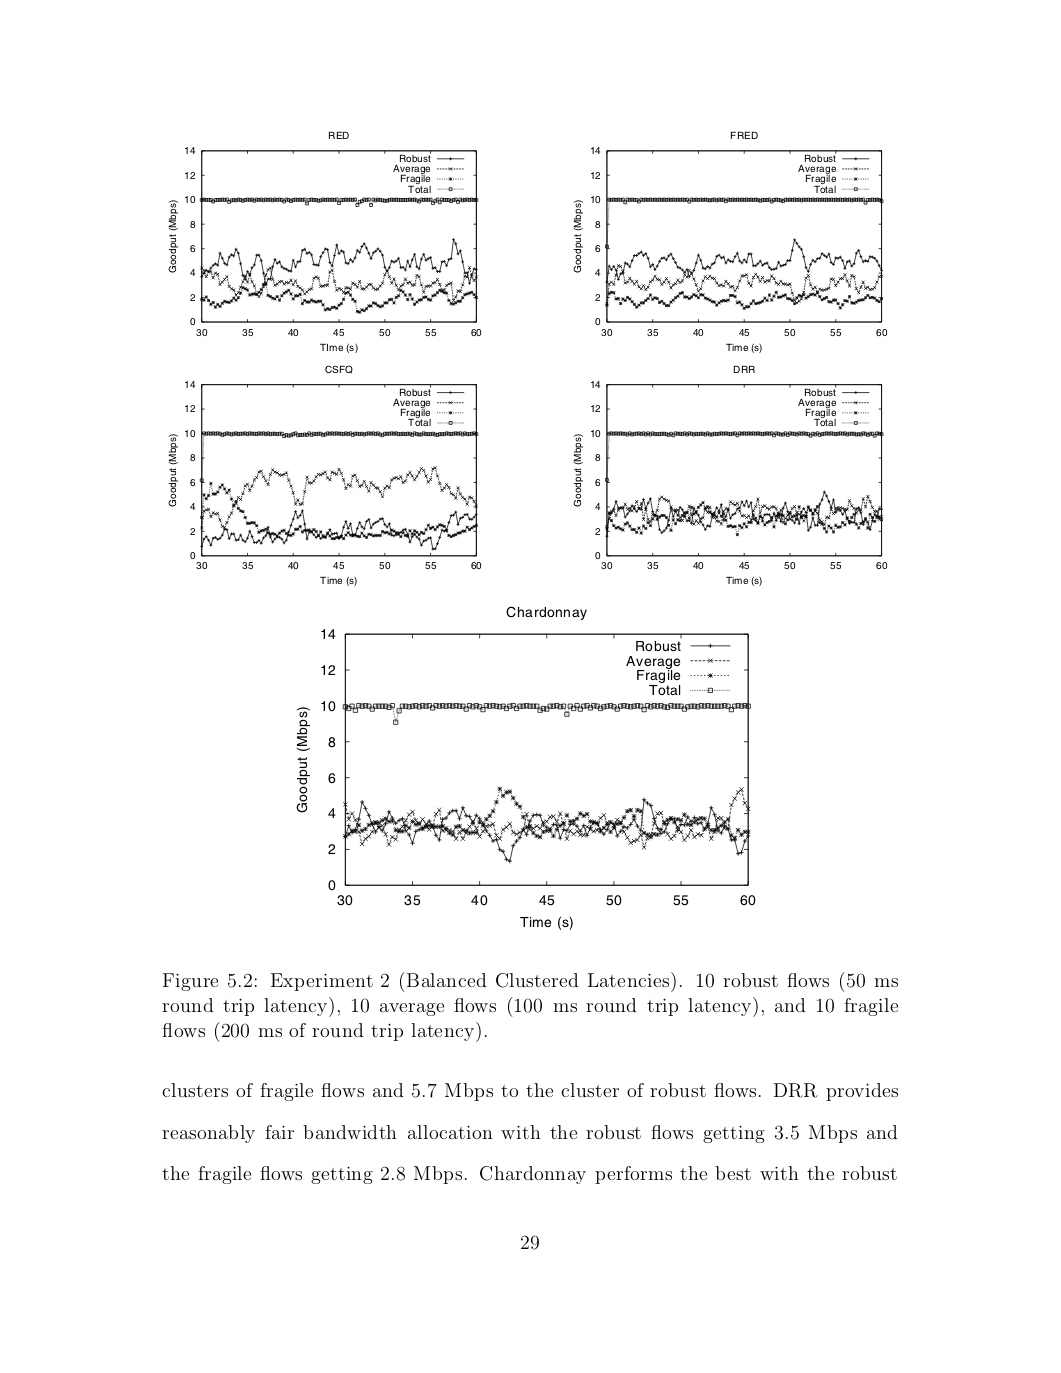figure: (296, 629, 750, 890), (168, 380, 481, 569), (573, 145, 883, 327), (168, 146, 478, 327), (573, 380, 883, 559)
